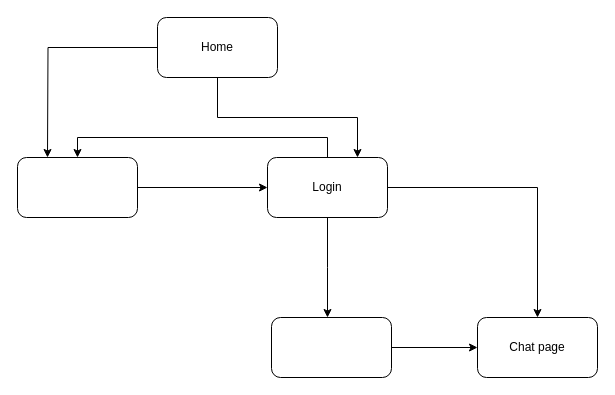
This 615x395 diagram has some shape labels left out. The centre of each missing label's shape, as x and y in pixels:
First time login page: point (331, 347)
Register: point (77, 187)
